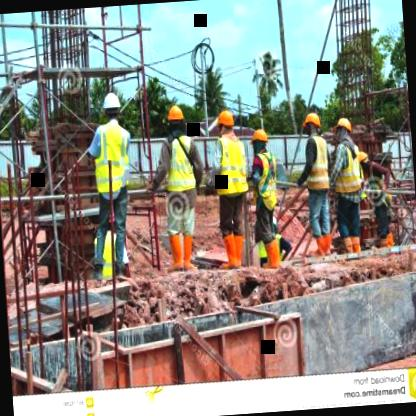helmet: (100, 93, 122, 127), (332, 116, 356, 146), (250, 124, 271, 158), (300, 110, 323, 140), (166, 104, 186, 135), (216, 108, 236, 138), (353, 146, 373, 170)
